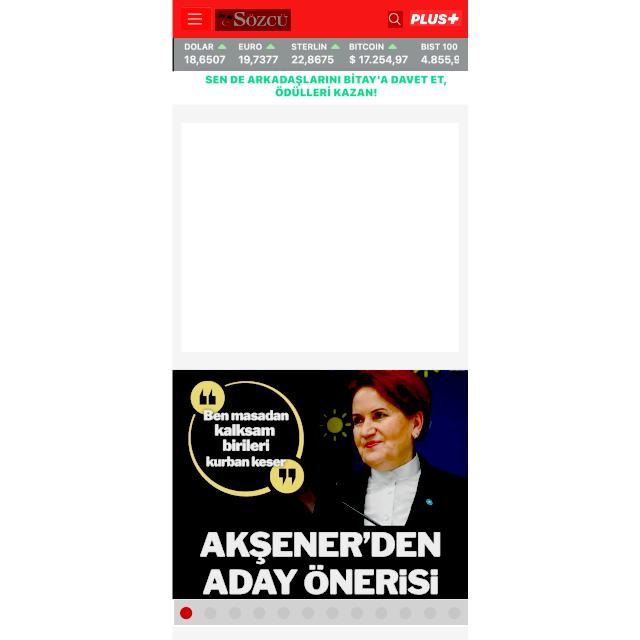ProgressBar: (174, 72, 469, 104)
QR code: (174, 38, 468, 72)
RadioButton: (410, 10, 462, 27)
carousel: (388, 11, 403, 28)
copy: (174, 369, 468, 600)
date picker: (215, 9, 291, 31)
decoration: (182, 8, 212, 31)
dropdown: (174, 600, 468, 625)
